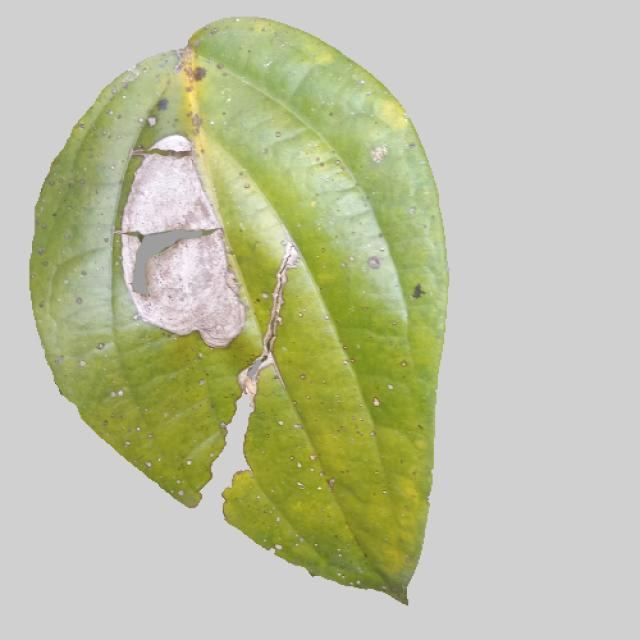leaf-blight: (18, 37, 448, 612)
